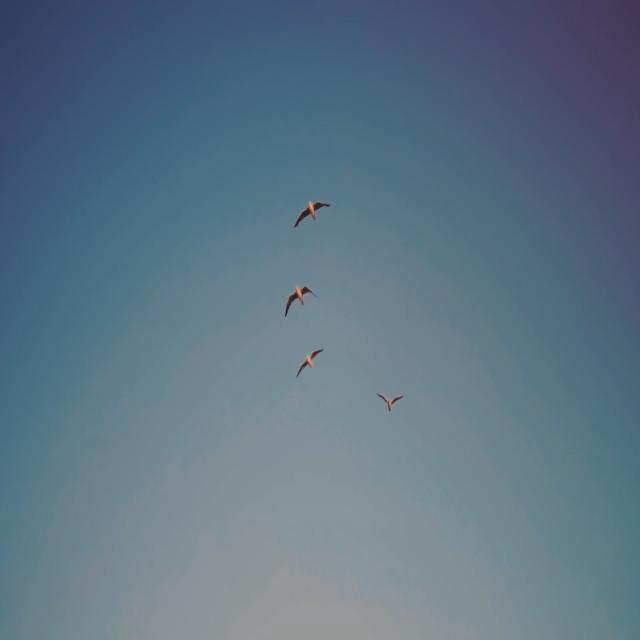bird: (283, 281, 318, 322), (291, 198, 333, 232), (295, 344, 329, 383), (374, 389, 406, 420)
